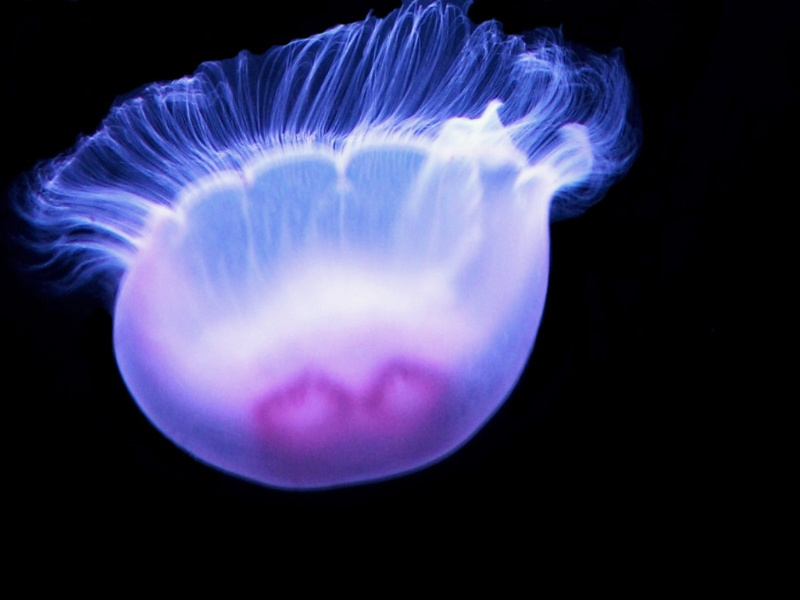Jellyfish: (9, 0, 638, 487)
